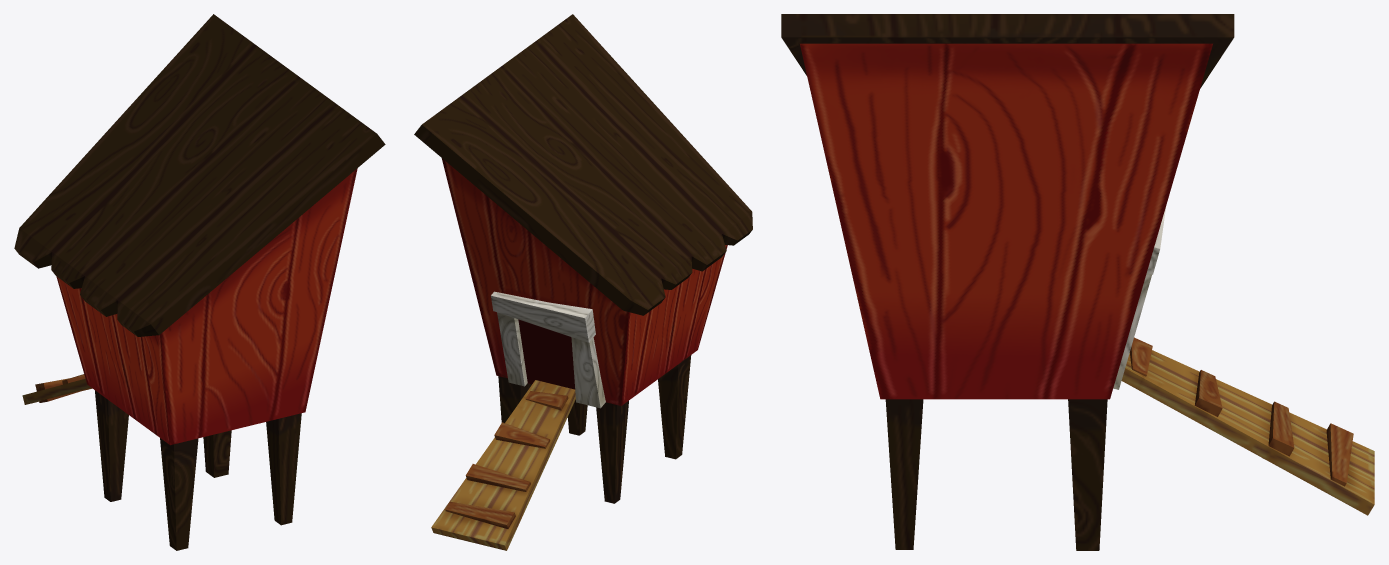
Rendered from FRM0310001.fbx.
3 renders of one model, left to right at view 1: azimuth 30°, elevation 25°; view 2: azimuth 150°, elevation 25°; view 3: azimuth 270°, elevation 25°, orthographic. The views are drawn at different scales.
Parts seen in each view (by area): view 1: smFRM0310001; view 2: smFRM0310001; view 3: smFRM0310001.
Part boxes in pixels (x1=…): smFRM0310001: x1=14, y1=14, x2=385, y2=550; smFRM0310001: x1=414, y1=14, x2=752, y2=550; smFRM0310001: x1=781, y1=14, x2=1374, y2=550.
Size of the model in its own units: 131 by 222 by 211.
1 material, 1 textured.
